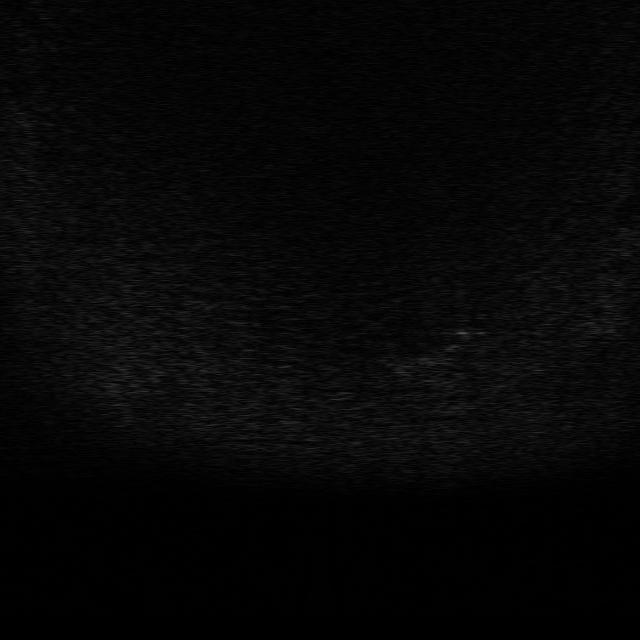plane: (382, 330, 468, 376)
